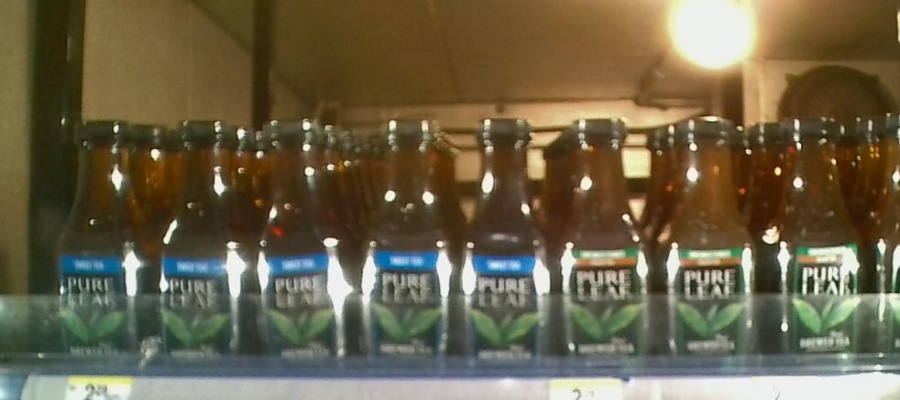bottle: (657, 111, 762, 375), (251, 115, 350, 377), (54, 115, 154, 372), (458, 110, 553, 375), (558, 106, 651, 373), (358, 115, 453, 373), (771, 111, 863, 370), (158, 119, 248, 375)
